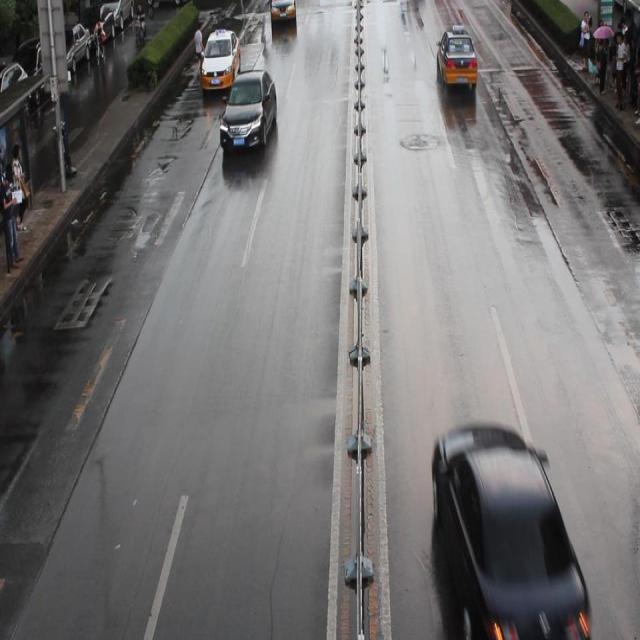car: (426, 419, 591, 640), (218, 69, 276, 153), (434, 24, 477, 90), (199, 28, 240, 91), (269, 1, 295, 20)
